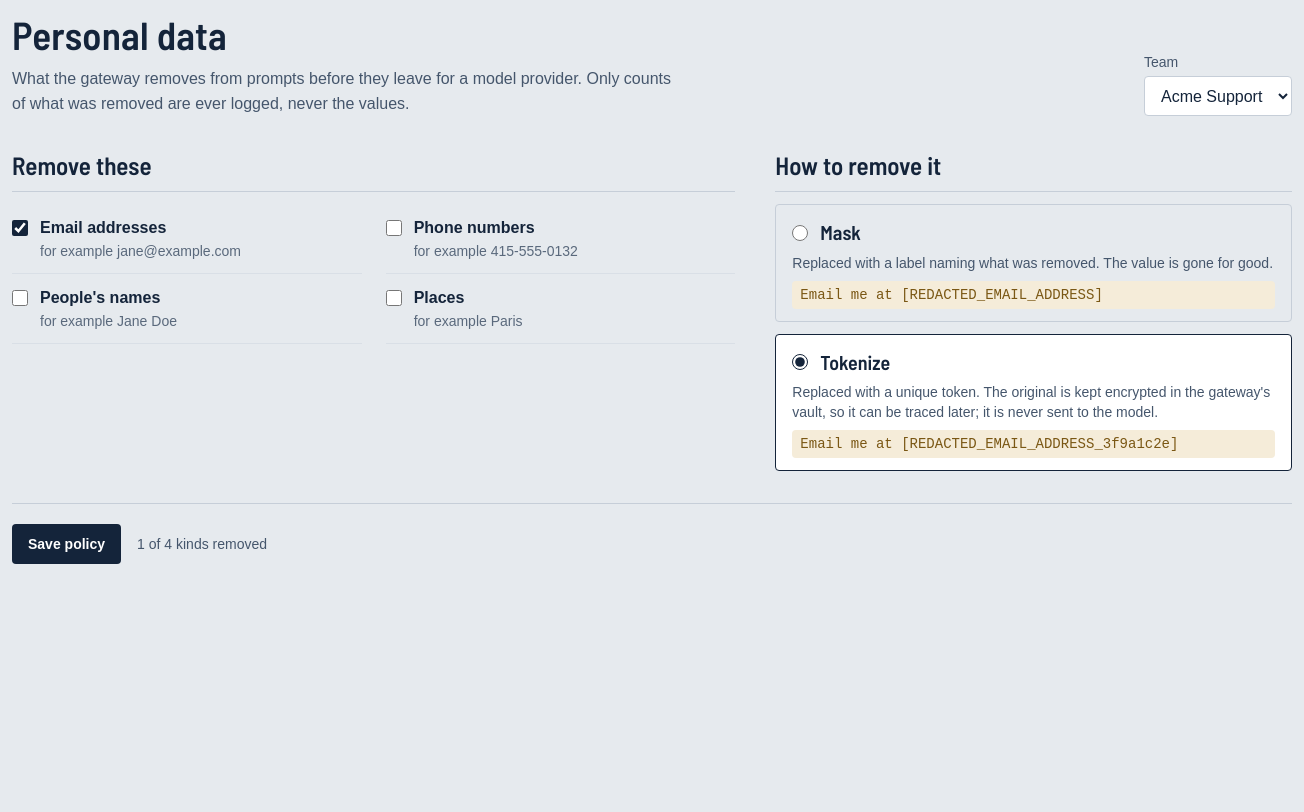
Scenario: Personal data › starts from the team's own policy and saves changes
Expected: the checkbox labelled "Email addresses for example jane@example.com" is checked, [12, 220, 28, 236]
Expected: the checkbox labelled "Phone numbers for example 415-555-0132" is not checked, [386, 220, 402, 236]
Click the checkbox labelled "Places for example Paris". click: (394, 298)
box: [386, 290, 402, 306]
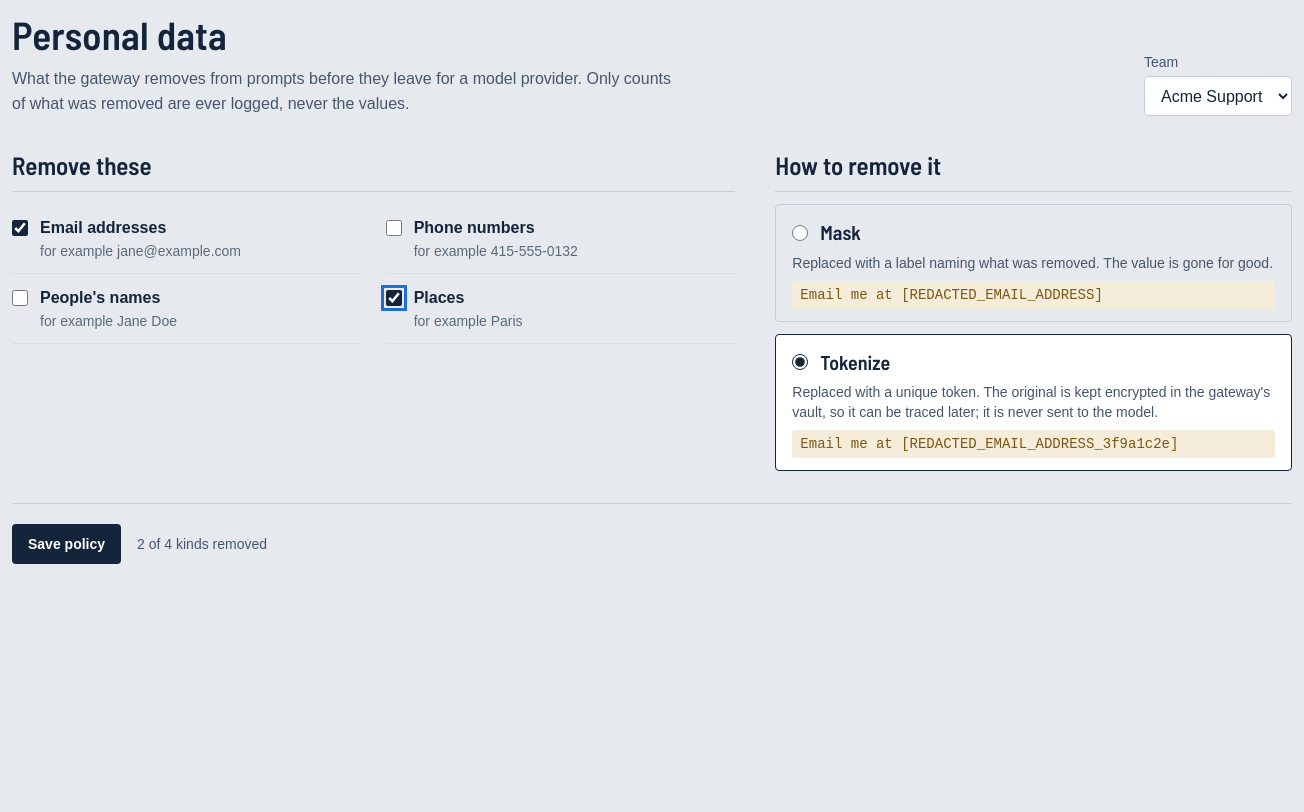
Click the radio button labelled "Mask". click: (800, 233)
box: [792, 225, 808, 241]
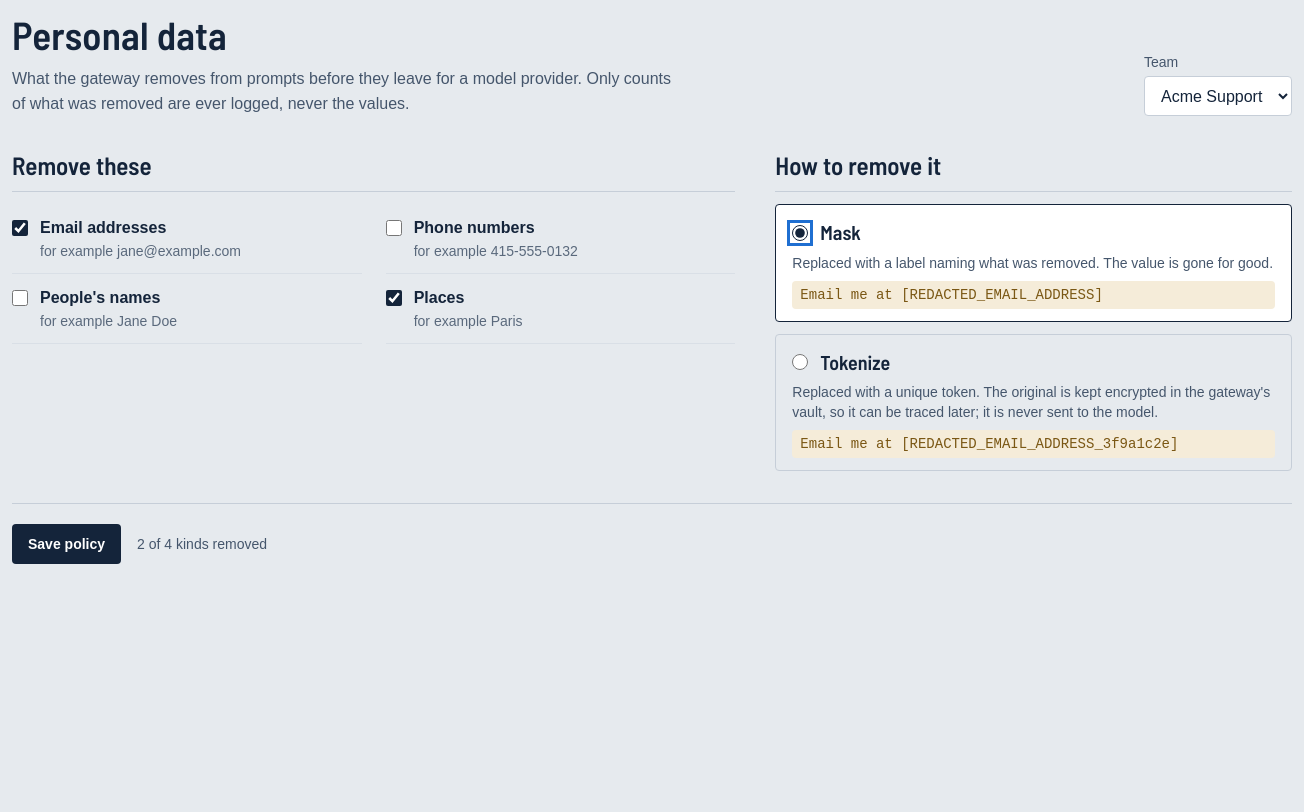
Click the button "Save policy". click: (66, 544)
box: [12, 524, 121, 564]
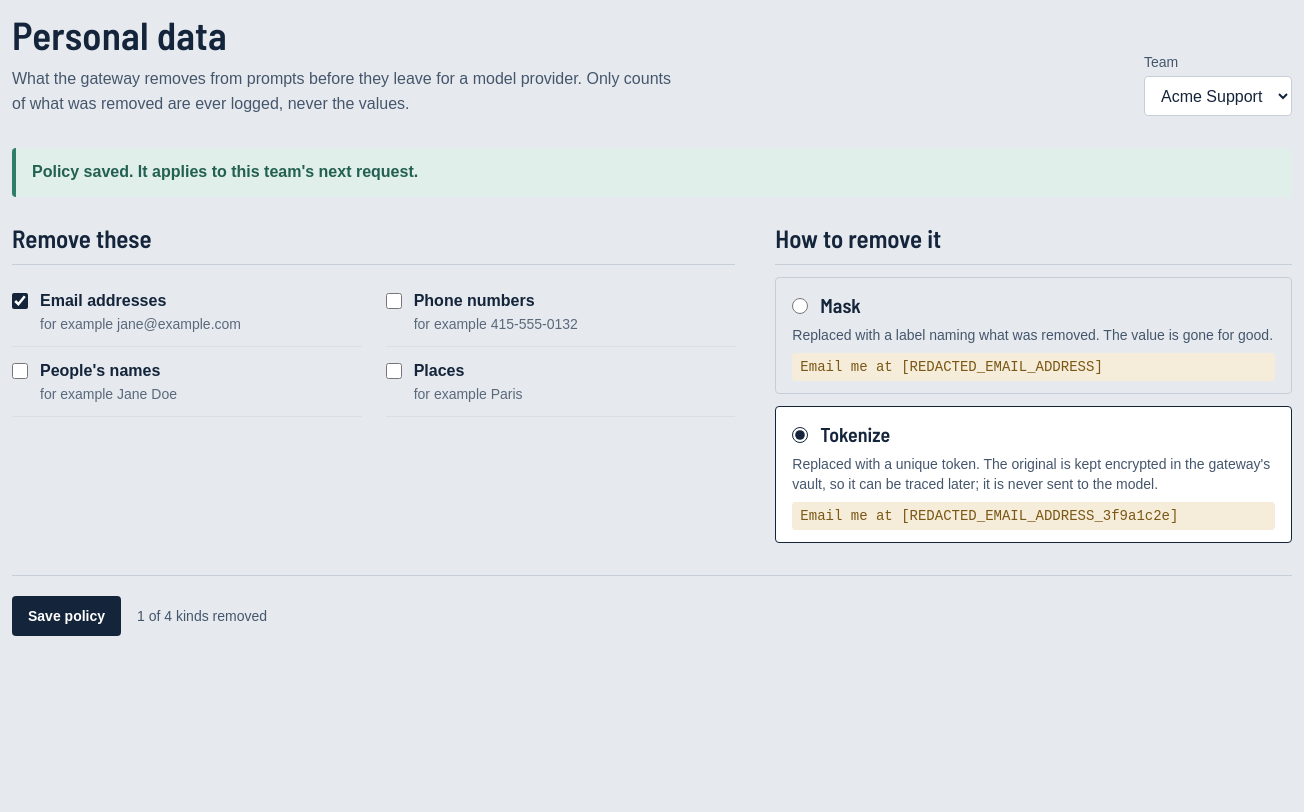
Now the text "Policy saved. It applies to this team's next request." is shown, box [12, 148, 1292, 197]
